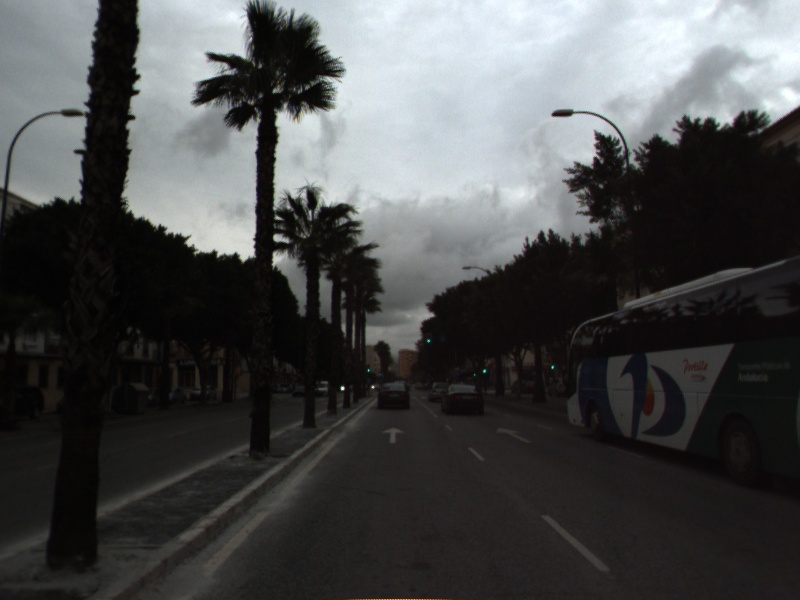STRAIGHT: (494, 424, 534, 445), (380, 424, 408, 446)
